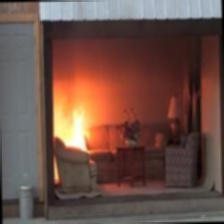fire: (54, 87, 92, 133)
